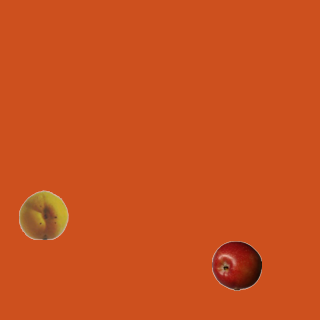Apple Braeburn: (211, 240, 261, 290)
Peach 2: (18, 189, 68, 239)
